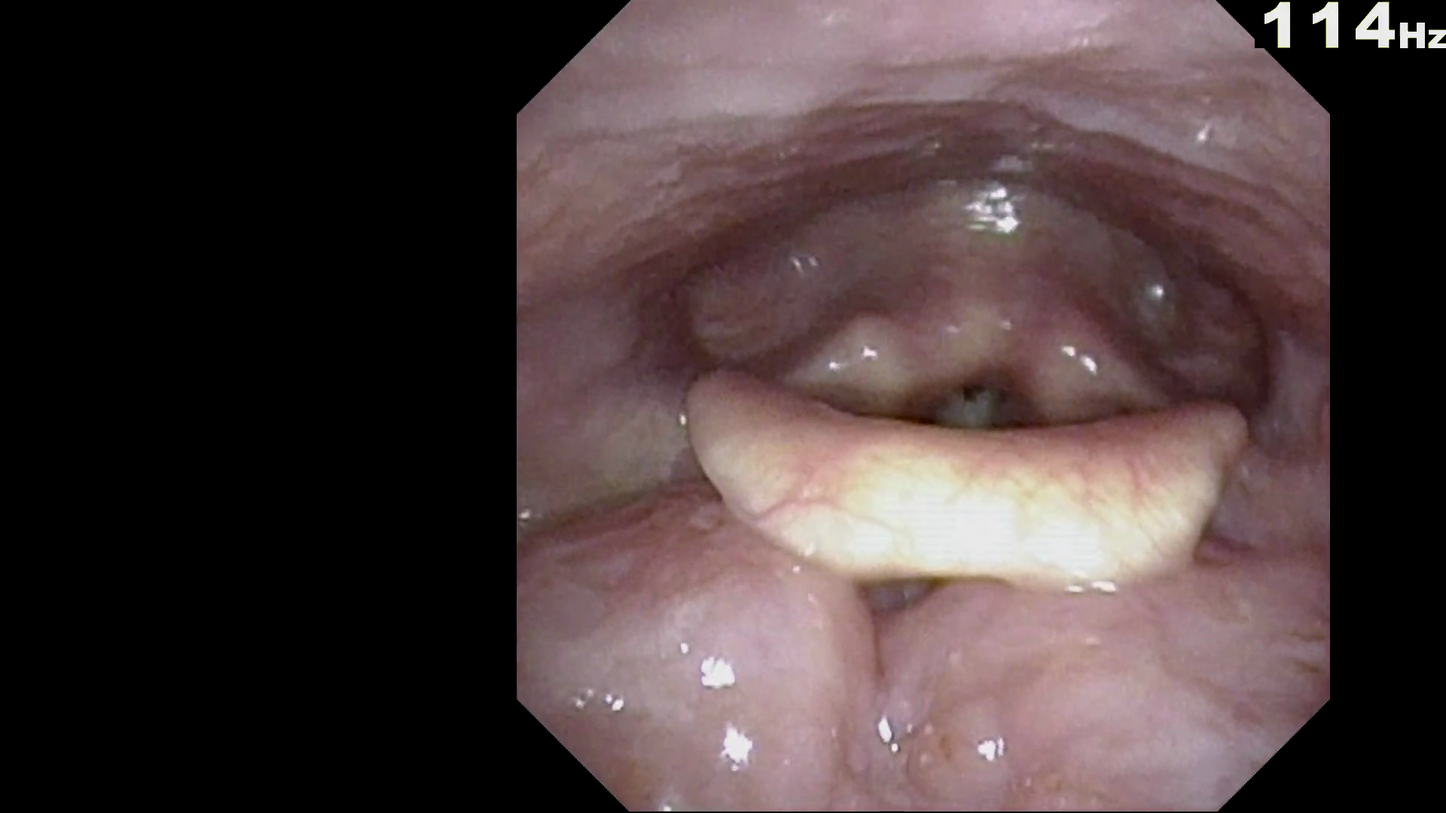epiglottis: (673, 346, 1275, 608)
trachea: (905, 322, 1051, 477)
